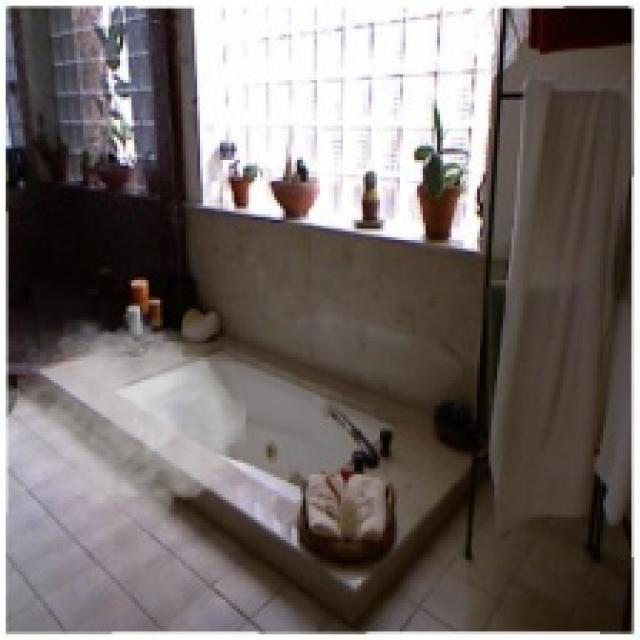Smoke: (17, 312, 246, 522)
